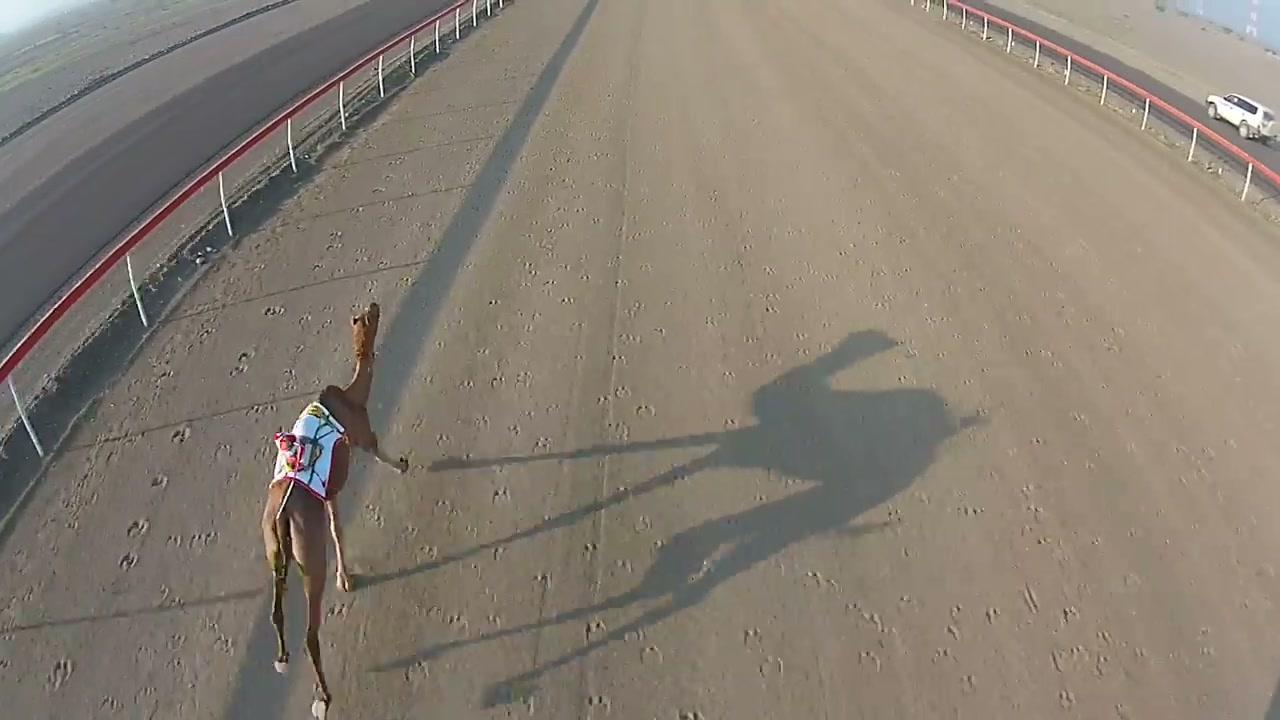animal_foot_print: (40, 286, 298, 698)
